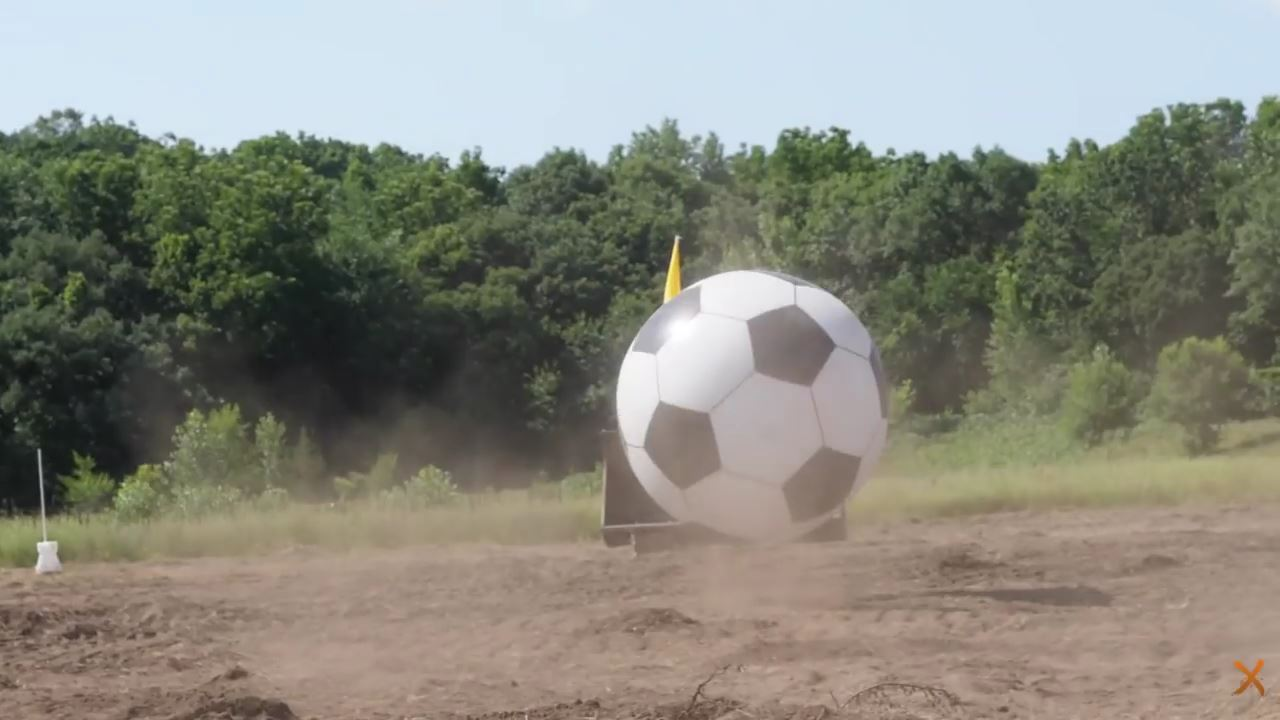con_eq: (585, 424, 672, 558)
